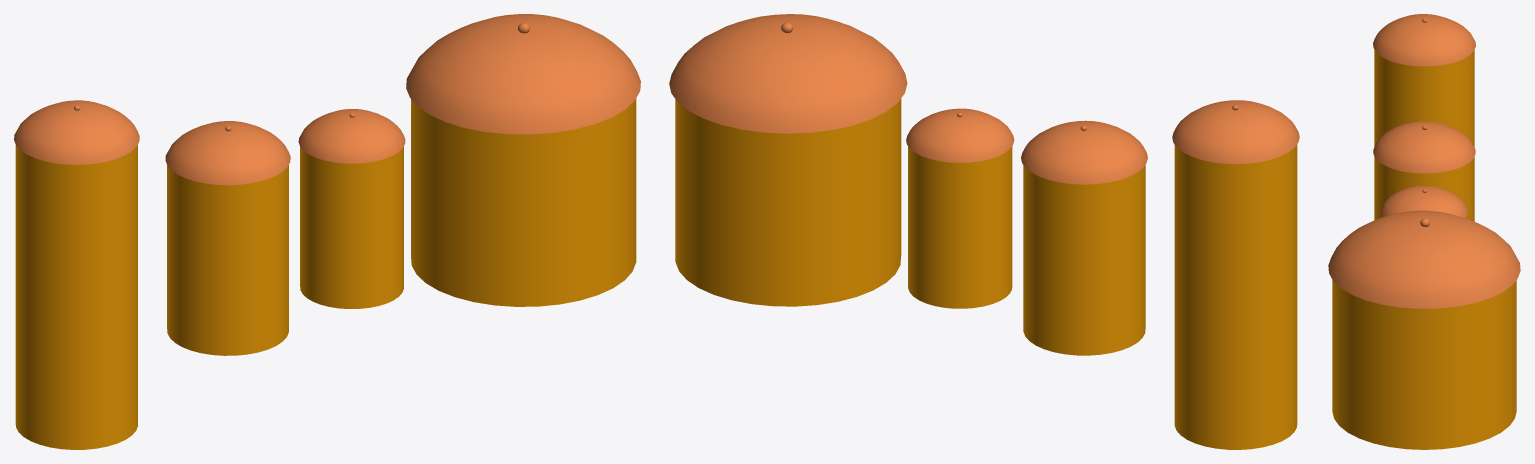
File: spices.fbx
The picture shows the model from 3 angles, left to right: view 1: azimuth 30°, elevation 25°; view 2: azimuth 150°, elevation 25°; view 3: azimuth 270°, elevation 25°; orthographic projection. The views are drawn at different scales.
Visible parts, largest first — view 1: spices, spices4, spices3, spices2; view 2: spices, spices4, spices3, spices2; view 3: spices, spices4, spices3, spices2.
Boxes of the visible parts, box(x1,y1,x2,y2) form: spices: box(406, 14, 640, 306); spices4: box(14, 100, 139, 449); spices3: box(165, 121, 290, 355); spices2: box(298, 109, 405, 308); spices: box(669, 14, 907, 306); spices4: box(1172, 100, 1299, 449); spices3: box(1021, 120, 1147, 355); spices2: box(906, 108, 1014, 308); spices: box(1328, 210, 1520, 449); spices4: box(1373, 14, 1475, 221); spices3: box(1373, 121, 1475, 221); spices2: box(1380, 185, 1468, 218).
Size of the model in its own units: 62.35 by 31.45 by 21.06.
